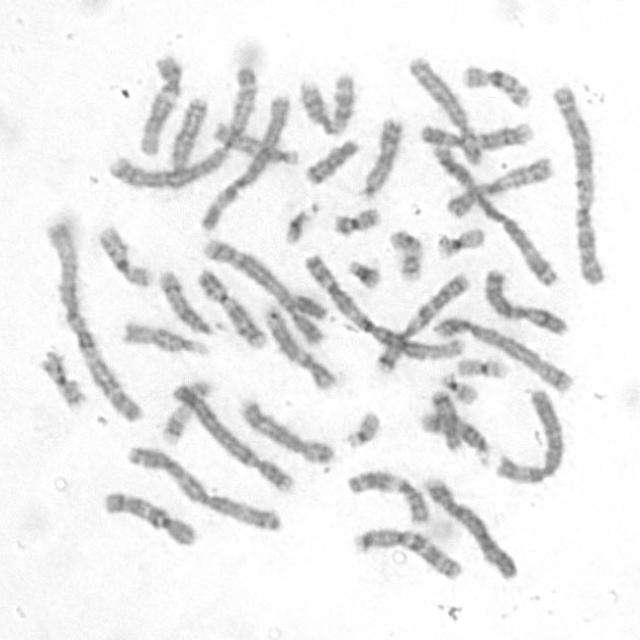A1: (40, 214, 146, 425), (297, 249, 469, 361)
A2: (101, 61, 261, 192), (547, 77, 608, 287)
A3: (424, 137, 559, 287), (121, 439, 283, 534)
B4: (169, 374, 298, 495), (416, 469, 520, 582)
B5: (197, 231, 329, 348), (427, 310, 575, 394)
C10: (441, 151, 556, 220), (97, 484, 200, 549)
C11: (342, 463, 432, 527), (293, 67, 357, 137)
C12: (258, 300, 338, 392), (133, 48, 185, 157)
C6: (195, 88, 292, 233), (490, 384, 566, 485)
C7: (371, 268, 471, 374), (347, 520, 466, 582)
C8: (404, 51, 486, 166), (232, 391, 336, 466)
C9: (191, 262, 268, 351), (413, 114, 537, 152)
D13: (355, 111, 405, 200), (163, 92, 210, 176)
D14: (413, 407, 492, 468), (154, 263, 219, 337)
D15: (206, 115, 302, 167), (116, 314, 212, 358)
E16: (92, 218, 155, 289), (456, 58, 534, 110)
E17: (156, 375, 213, 446), (383, 224, 426, 284)
E18: (298, 132, 361, 186), (426, 384, 464, 454)
F19: (431, 220, 487, 260), (451, 350, 511, 381)
F20: (36, 347, 89, 410), (328, 200, 383, 237)
G21: (279, 196, 323, 246), (340, 252, 384, 290)
G22: (338, 404, 382, 450), (435, 366, 480, 406)
X: (479, 262, 571, 338)
Y: (286, 288, 329, 320)
